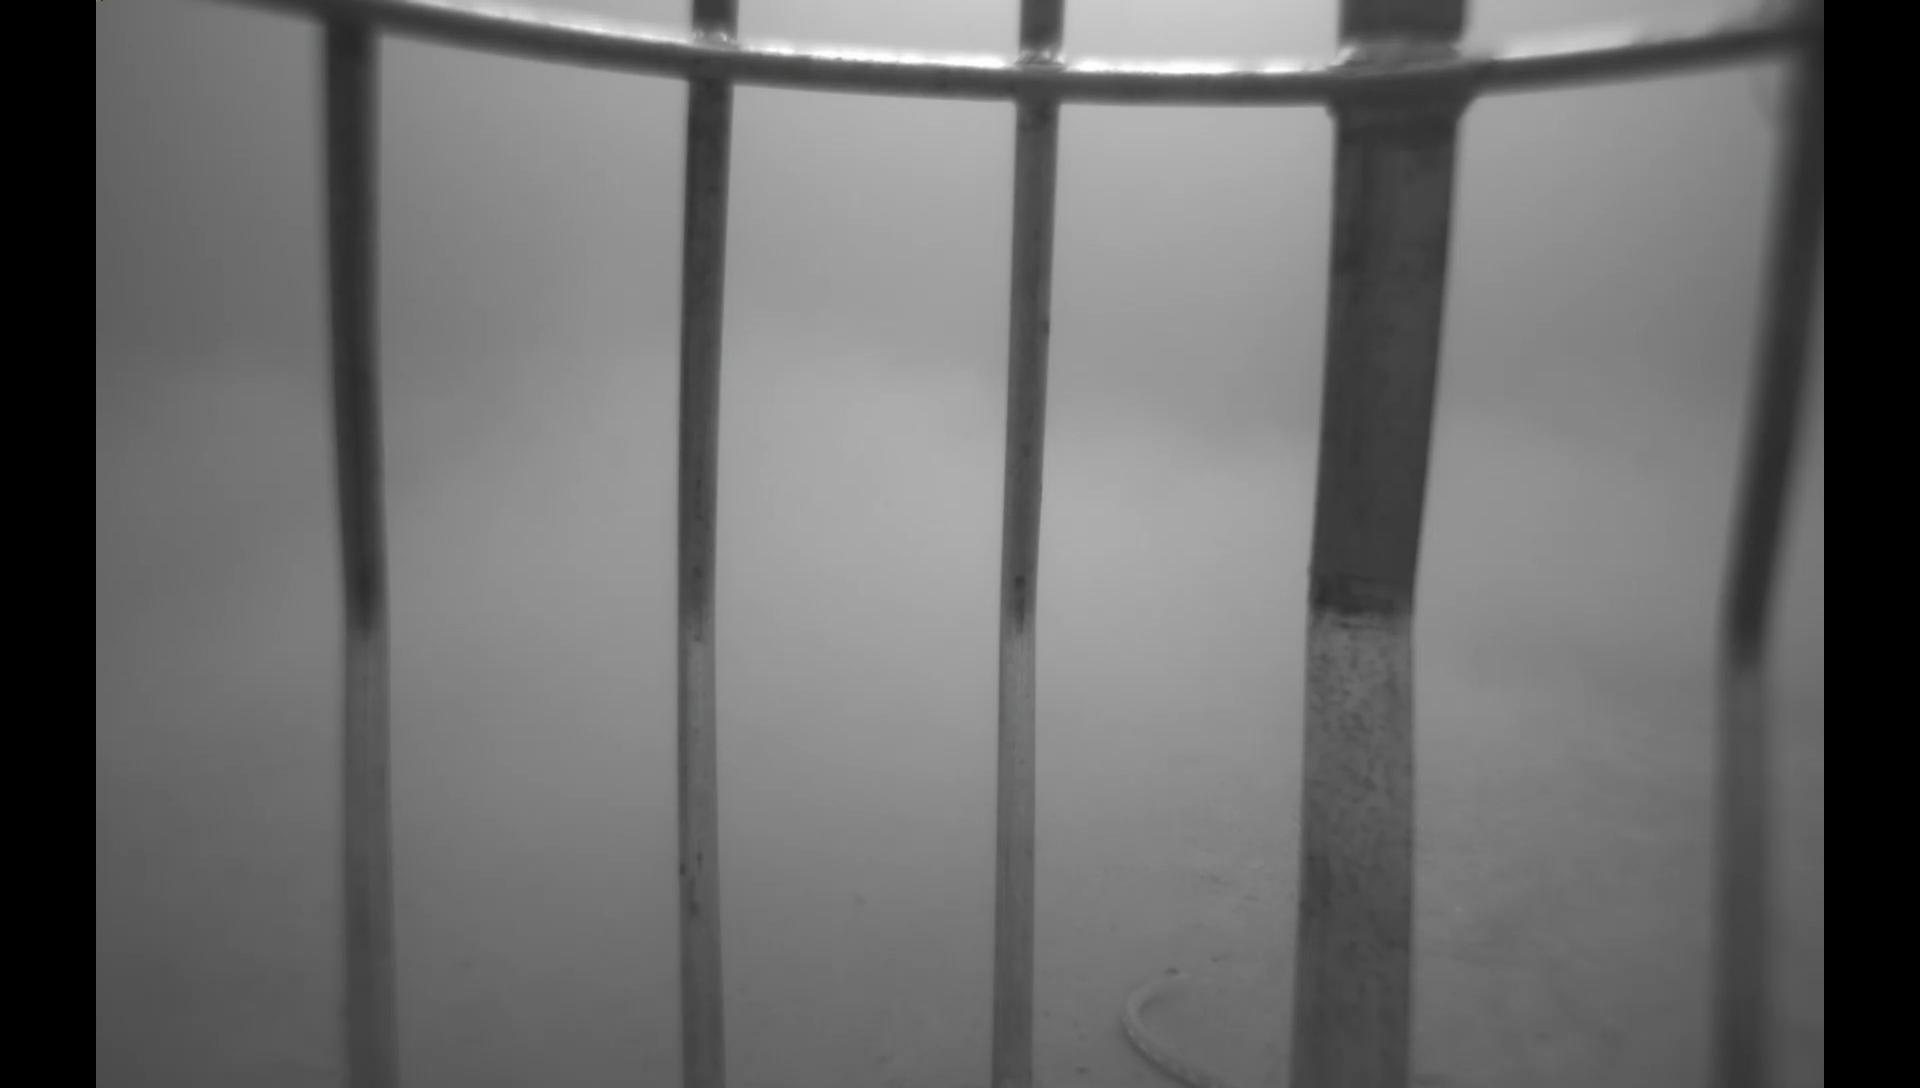OPHICHTHUSPUNCTICEPS-143150402: (1110, 957, 1240, 1087)
